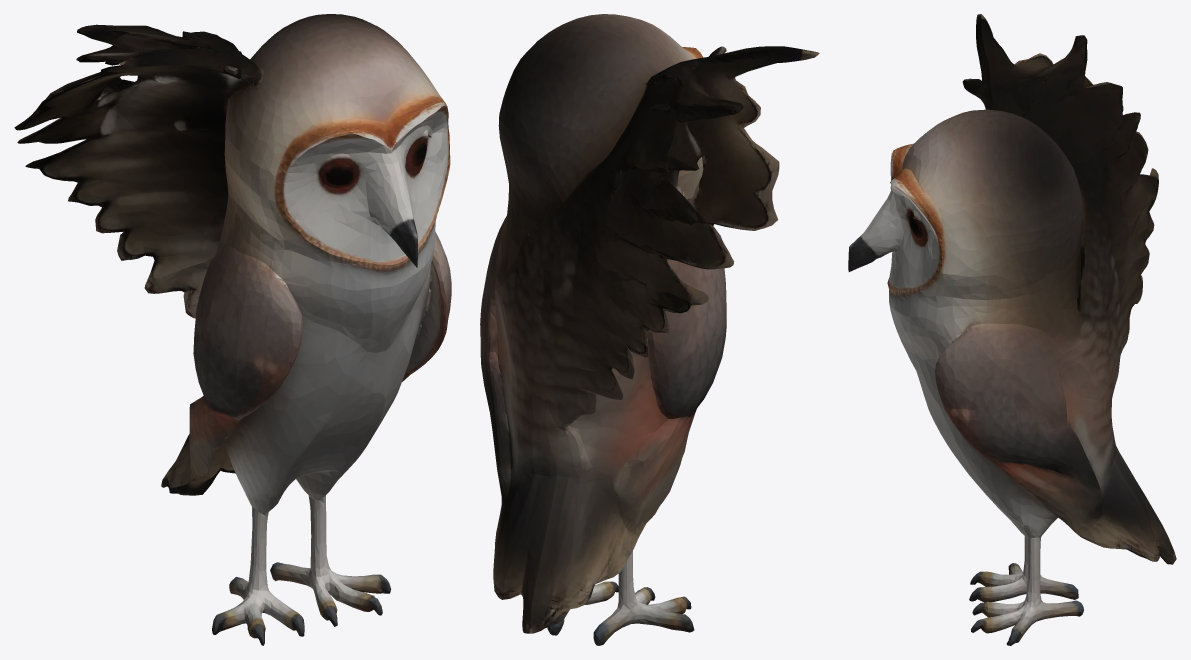
The model's file is barn_owl.glb.
The picture shows the model from 3 angles, left to right: view 1: azimuth 30°, elevation 25°; view 2: azimuth 150°, elevation 25°; view 3: azimuth 270°, elevation 25°; orthographic projection. The views are drawn at different scales.
Visible parts, largest first — view 1: geometry_0; view 2: geometry_0; view 3: geometry_0.
Part boxes in pixels (x1,y1,x2,y2): geometry_0: (14, 14, 451, 645); geometry_0: (480, 14, 819, 645); geometry_0: (848, 14, 1176, 645).
Bounding box in the file's own units: 0.6036 × 1 × 0.5767.
Materials: 1 (1 with a texture image).
